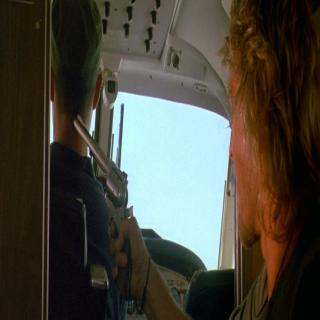gun: (68, 97, 147, 301)
